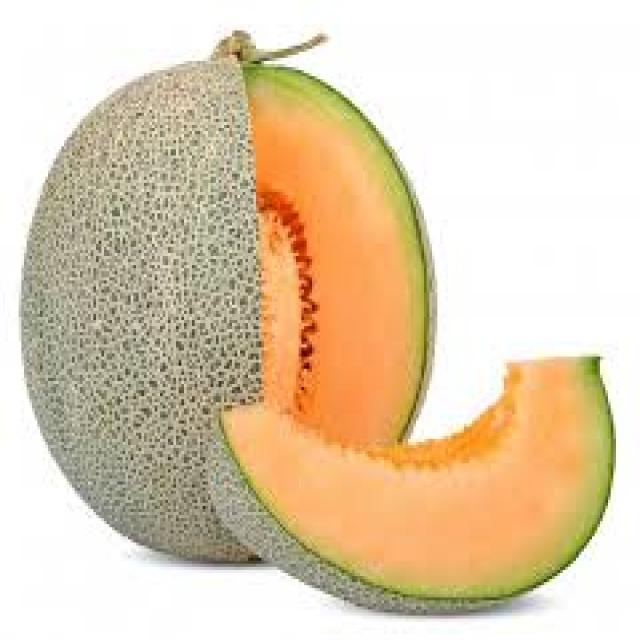cantaloupe: (23, 31, 439, 562), (208, 354, 614, 616)
